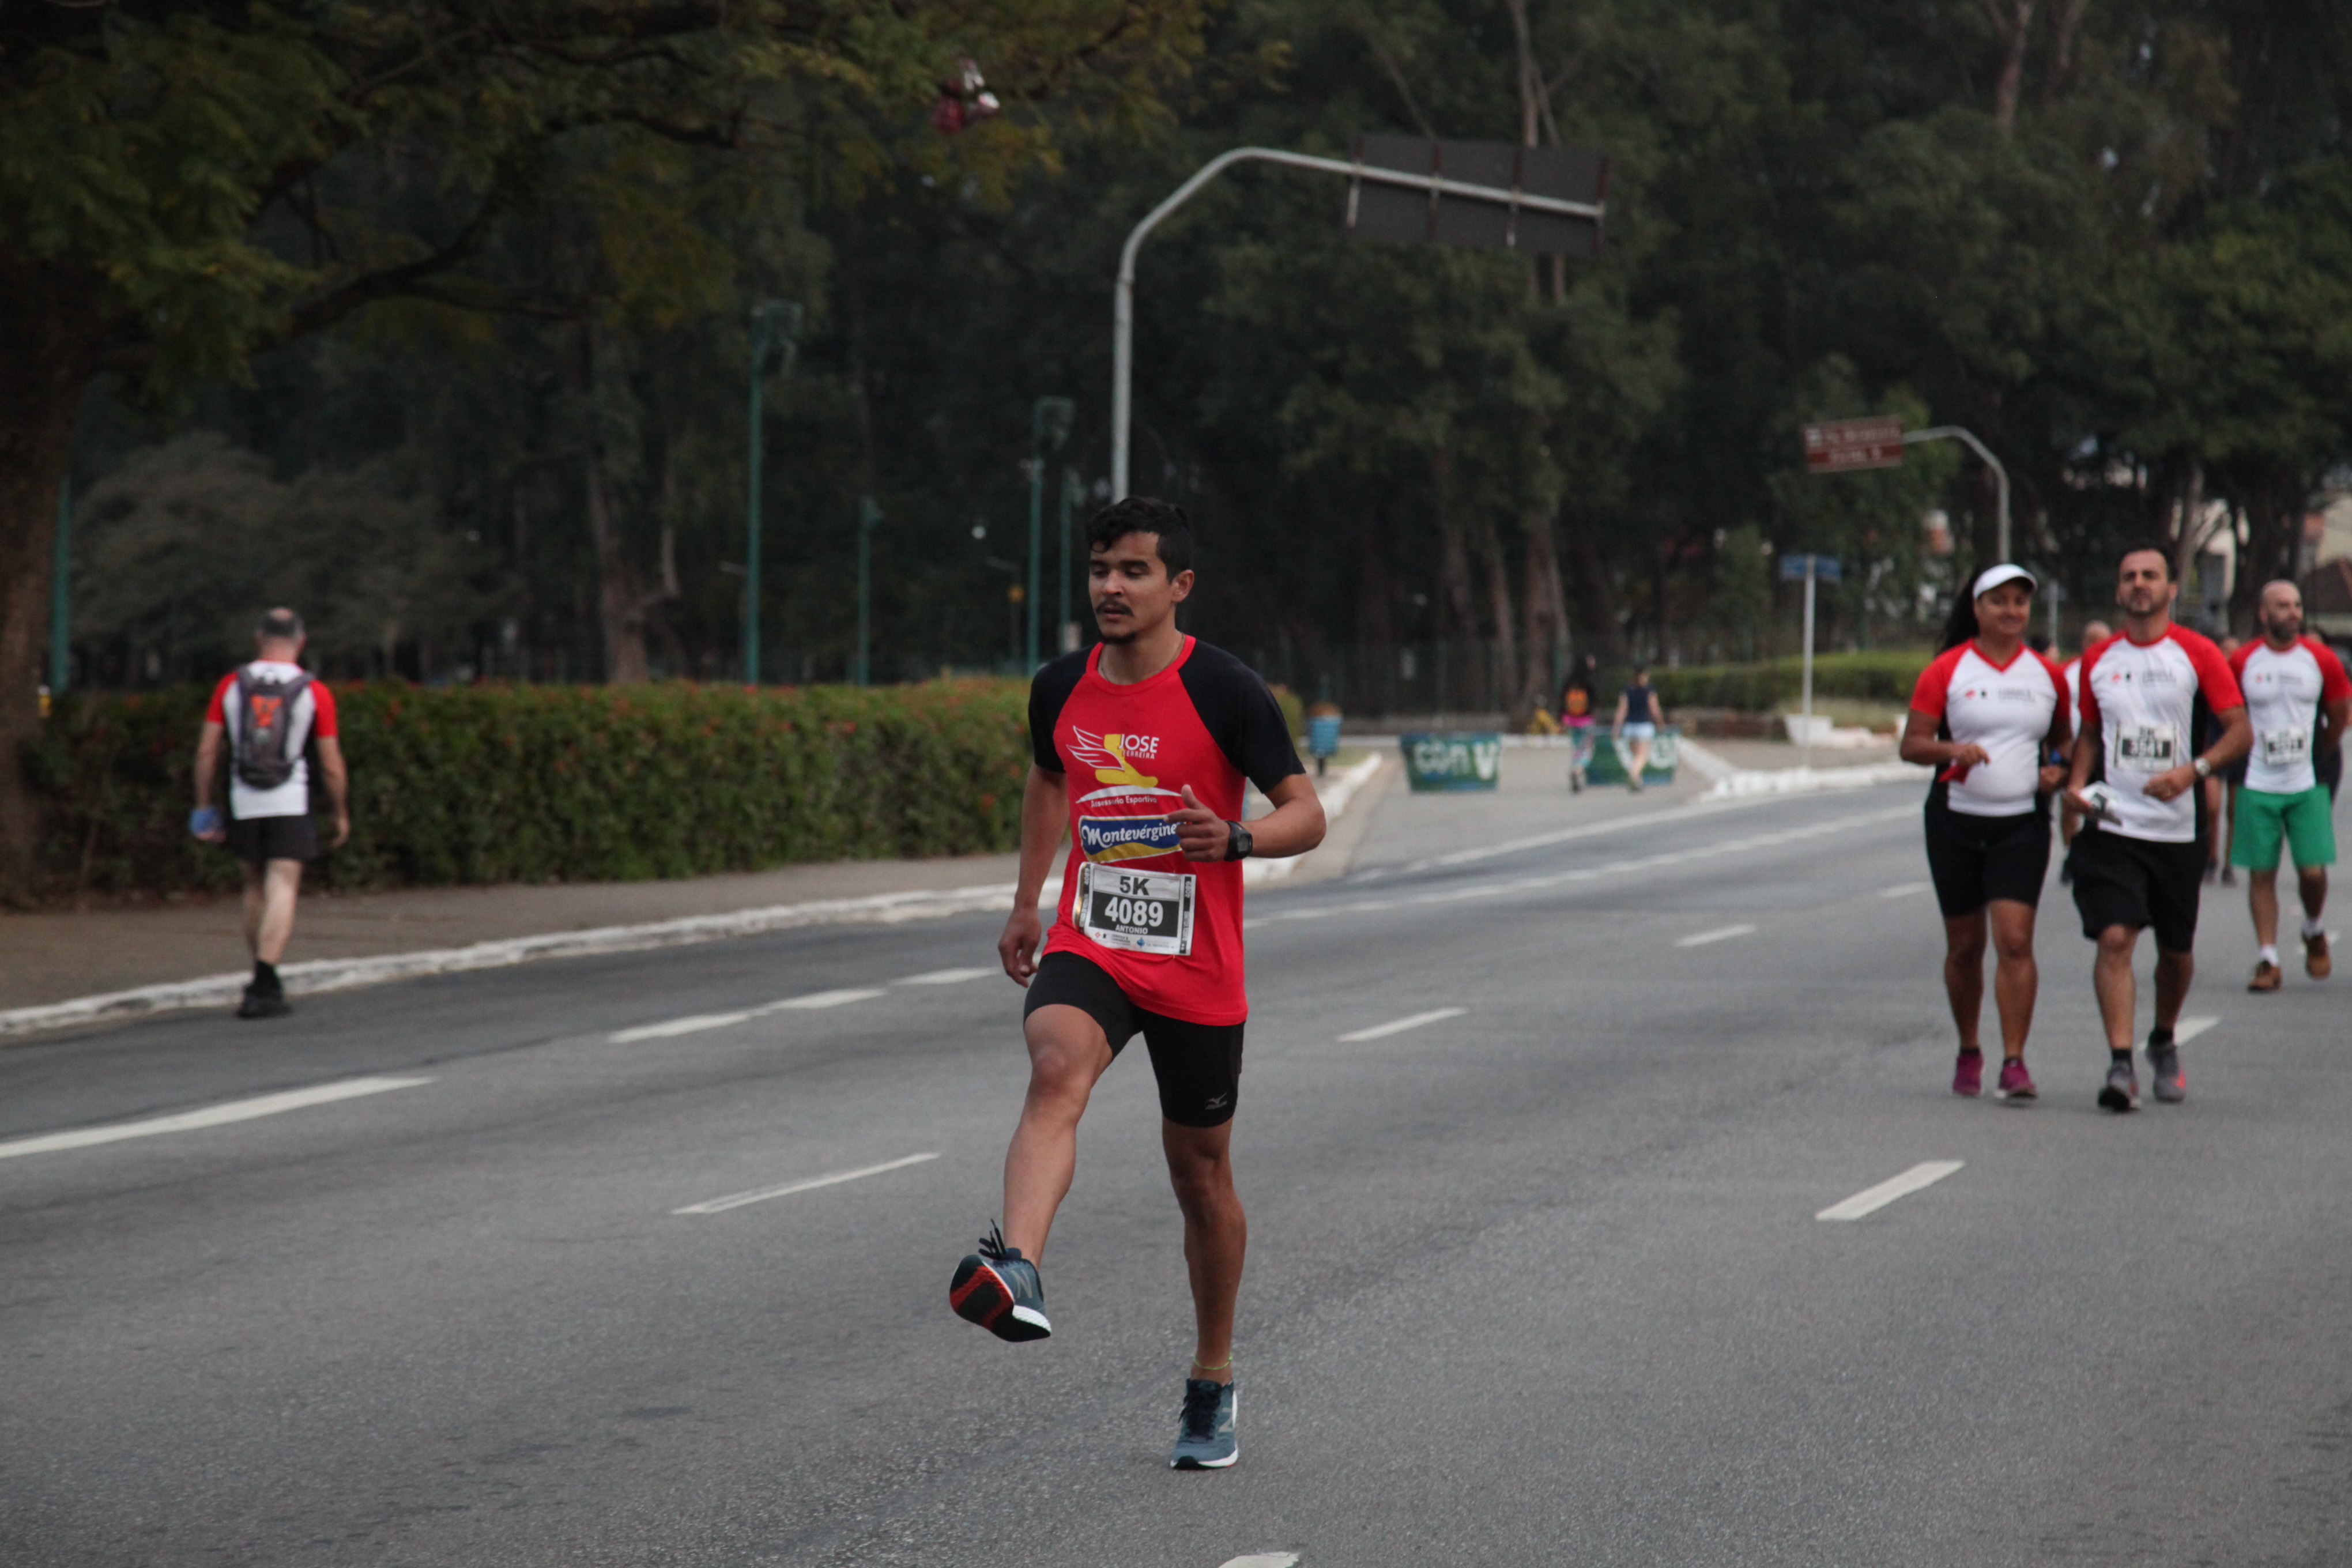bibtag: (1060, 849, 1207, 968), (2112, 710, 2184, 782)
